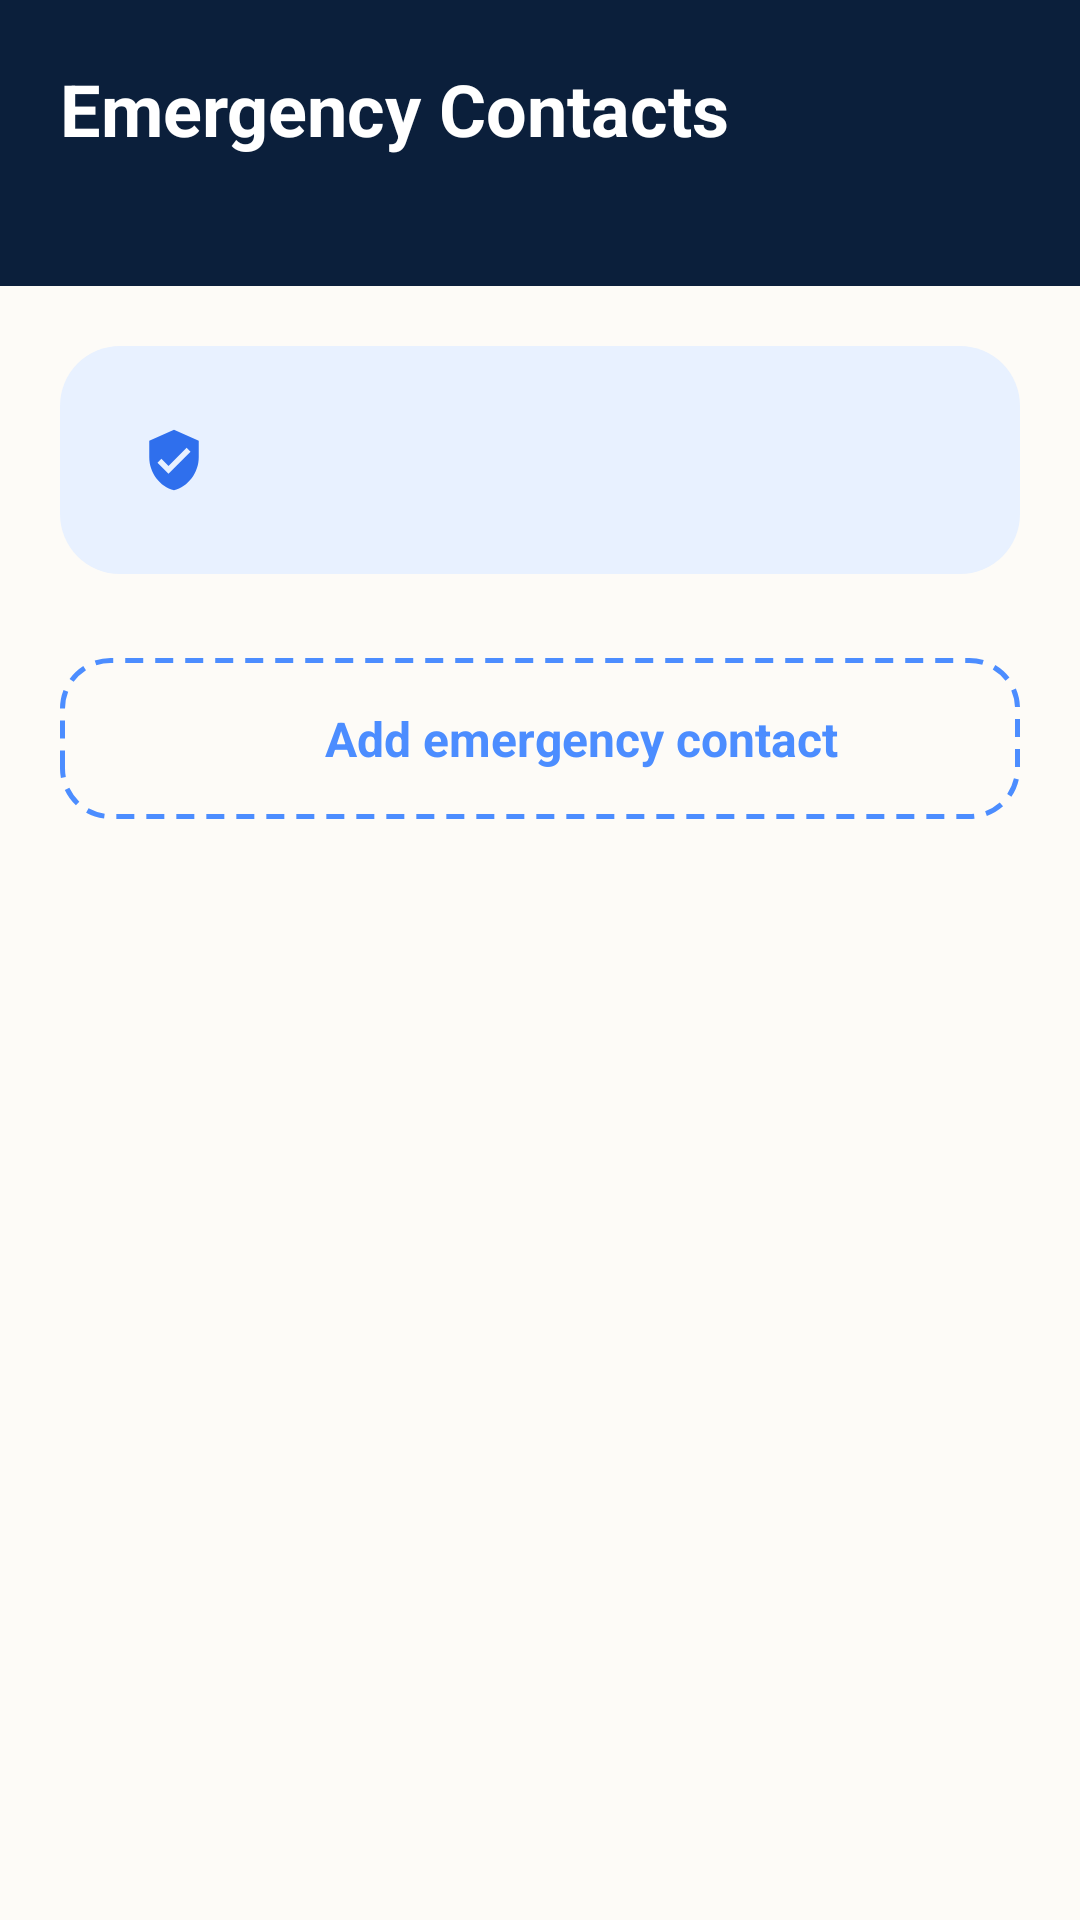

Icons on this 1080 x 1920 Android screen, each with its box as (x1, y1, x2, y2):
shield: (149, 430, 199, 490)
